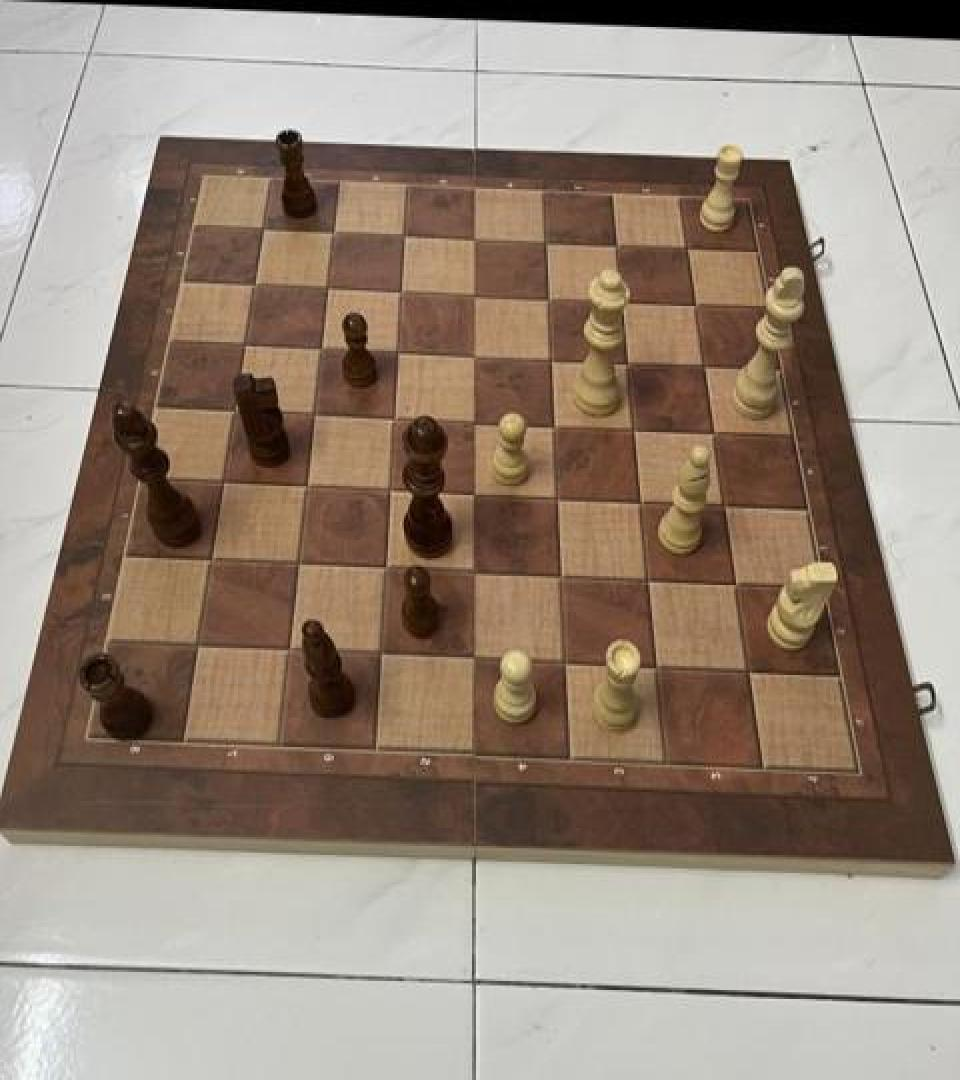xcorner: (286, 544, 318, 581), (735, 652, 767, 689), (249, 209, 281, 245), (320, 214, 352, 250), (391, 217, 423, 253), (462, 220, 494, 256), (533, 225, 565, 261), (603, 228, 635, 264), (673, 232, 705, 268), (241, 266, 273, 302), (315, 269, 347, 305), (388, 274, 420, 310), (462, 277, 494, 313), (535, 280, 567, 316), (609, 284, 641, 320), (682, 288, 714, 324), (231, 325, 263, 361), (308, 330, 340, 366), (385, 333, 417, 369), (462, 338, 494, 374), (538, 341, 570, 377), (614, 346, 646, 382), (691, 349, 723, 385), (221, 392, 253, 428), (302, 395, 334, 431), (382, 400, 414, 436), (462, 403, 494, 439), (541, 407, 573, 443), (621, 410, 653, 446), (700, 415, 732, 451), (210, 462, 242, 498), (294, 467, 326, 503), (378, 470, 410, 506), (461, 475, 493, 511), (545, 479, 577, 515), (628, 482, 660, 518), (711, 487, 743, 523), (198, 541, 230, 577), (374, 549, 406, 585), (461, 554, 493, 590), (548, 558, 580, 594), (635, 562, 667, 598), (722, 566, 754, 602), (185, 626, 217, 662), (277, 631, 309, 667), (369, 636, 401, 672), (461, 640, 493, 676), (552, 644, 584, 680), (644, 648, 676, 684)
